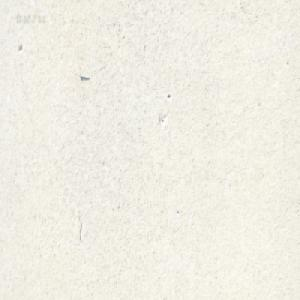Nail: (78, 72, 89, 79)
